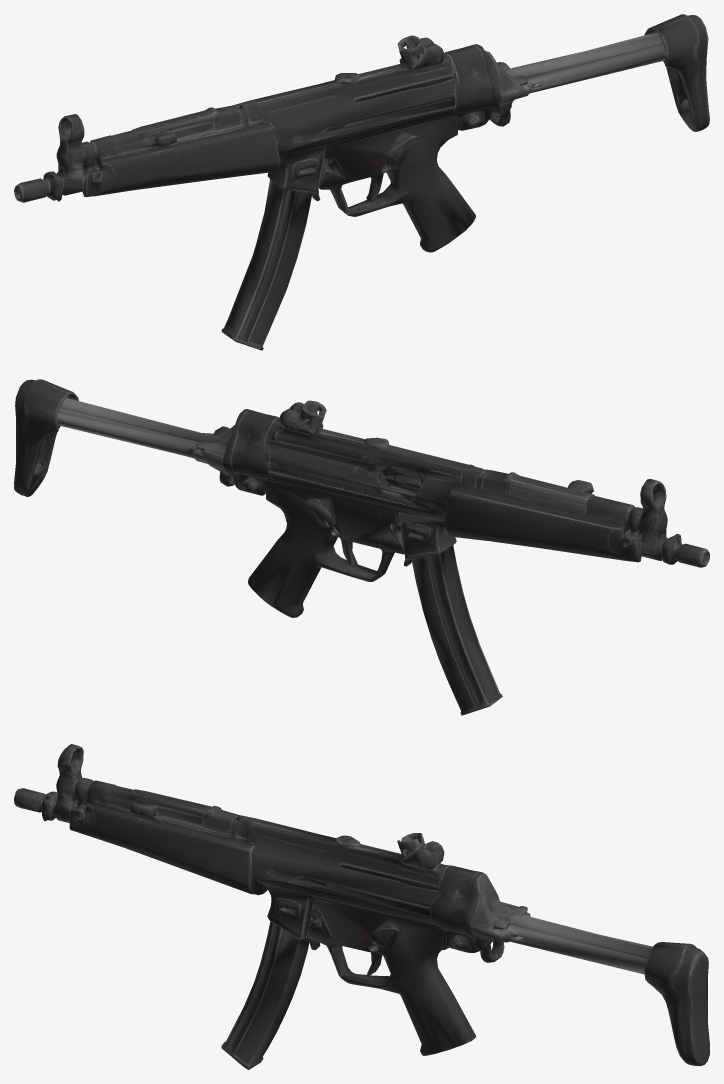
Rendered from wpn_smg.glb.
3 views of the same model, one above another, from view 1: azimuth 30°, elevation 25°; view 2: azimuth 150°, elevation 25°; view 3: azimuth 330°, elevation 25° (orthographic).
Visible parts, largest first — view 1: Mesh_0; view 2: Mesh_0; view 3: Mesh_0.
Boxes of the visible parts, x1=… form: Mesh_0: x1=14, y1=14, x2=709, y2=350; Mesh_0: x1=14, y1=379, x2=709, y2=715; Mesh_0: x1=14, y1=744, x2=709, y2=1069.
Size of the model in its own units: 1.9 by 0.7236 by 0.1485.
1 material, 1 textured.
